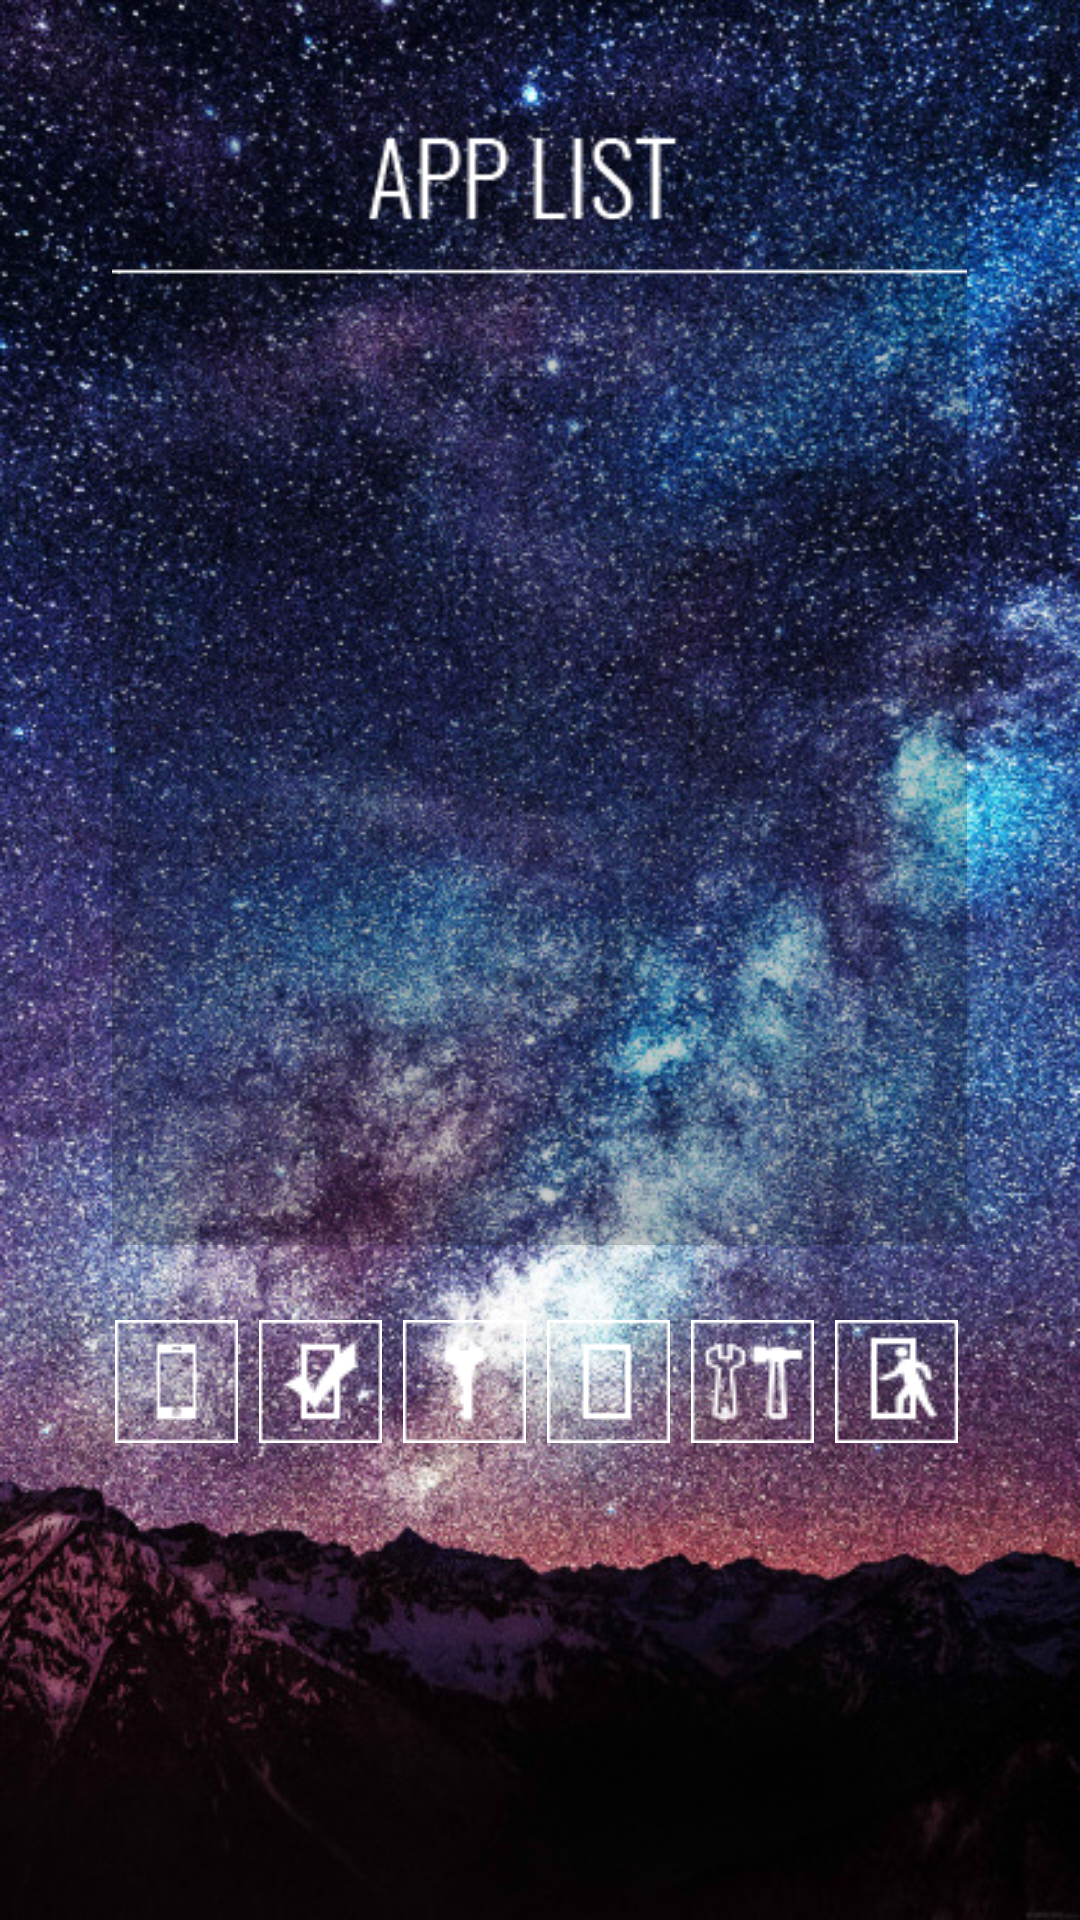

Point at icon controls on the screen. Image size 1080*1920, points as [x,y].
extwbx: [896,1381]
setwbx: [752,1381]
